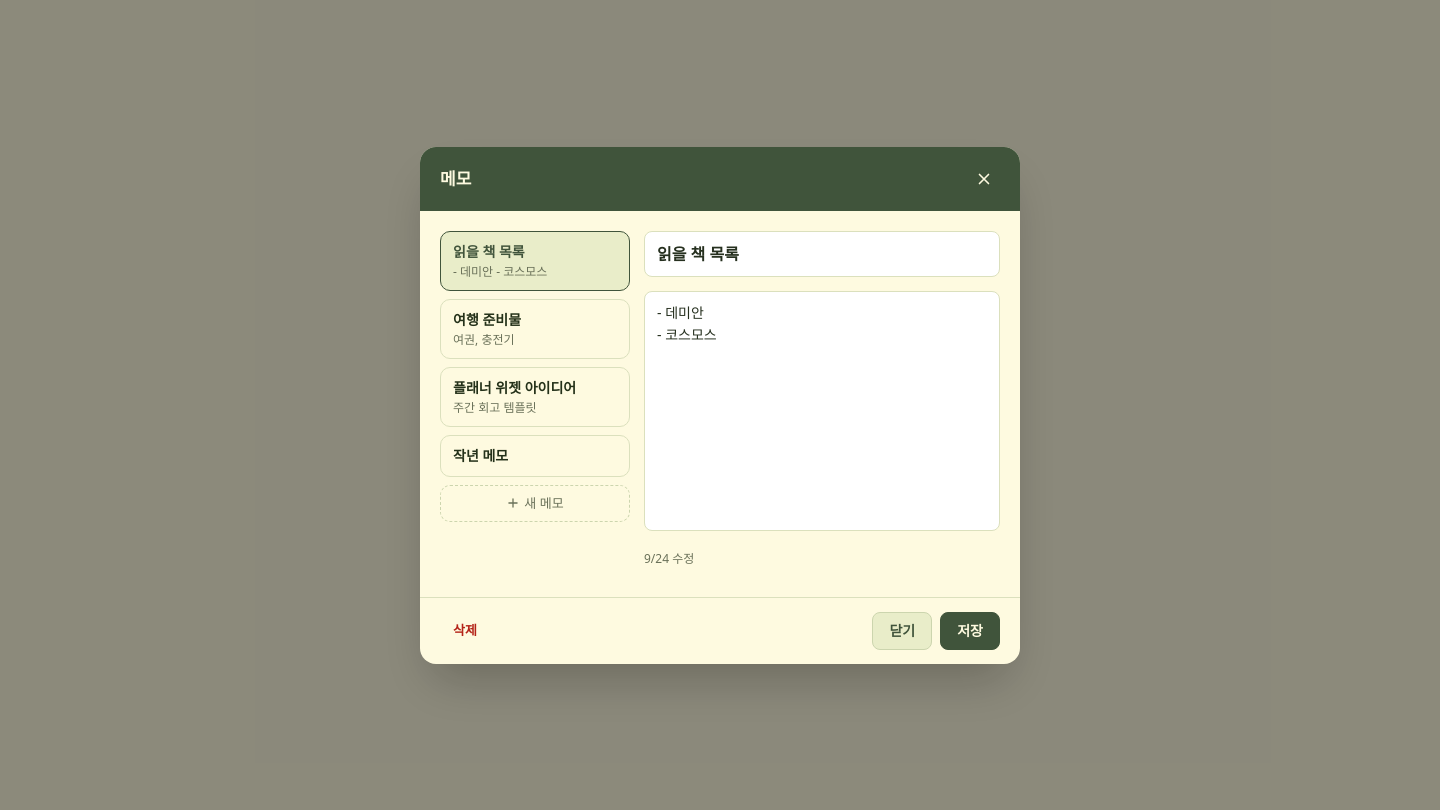
Scenario: 메모 창 OV-06 (US-25) › 지운 뒤에는 남은 맨 위 메모를 연다 (D-057)
Check: the field named "메모 제목" holds "읽을 책 목록", box [644, 230, 1000, 276]
Step 1. Click the button "삭제" → (465, 631), box [440, 614, 490, 647]
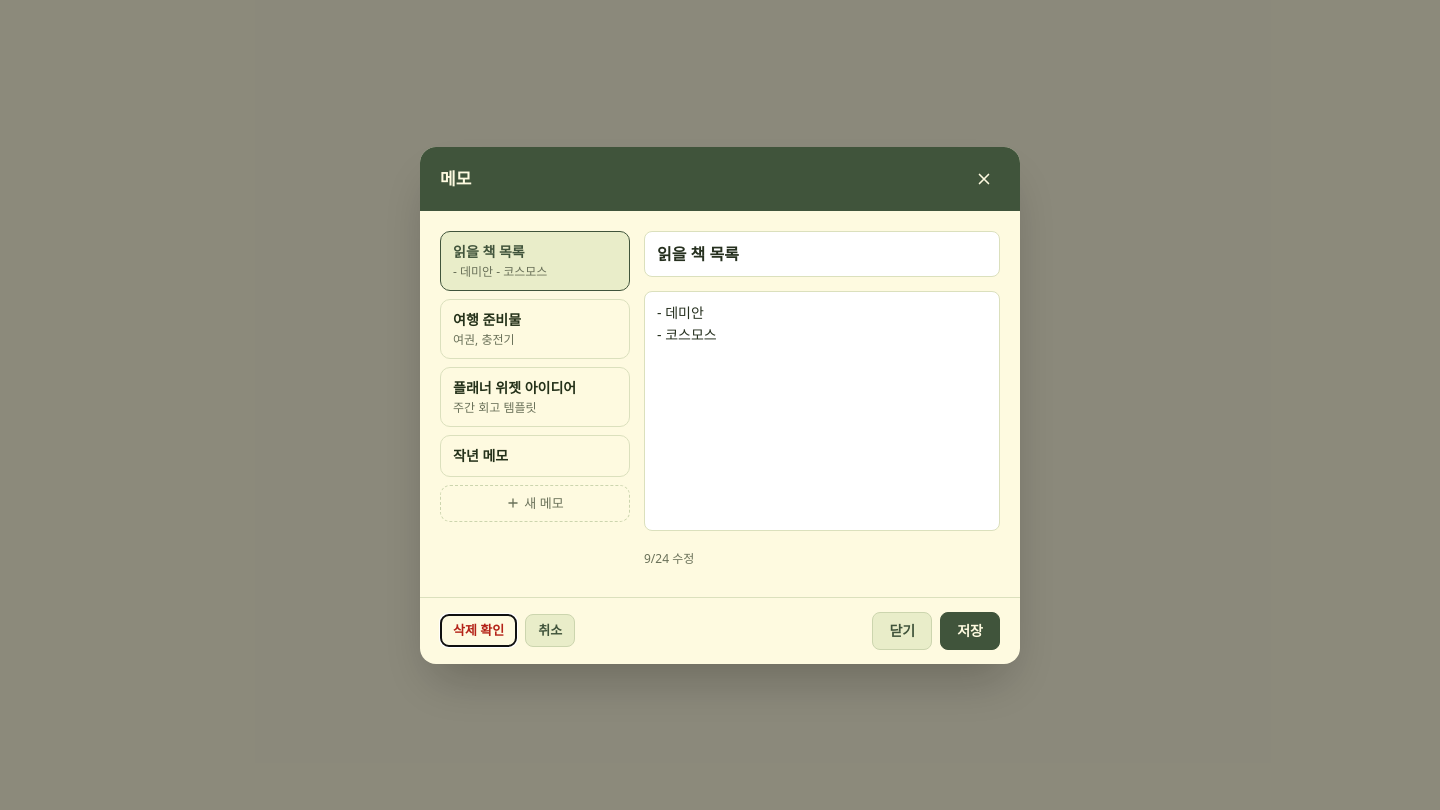
Step 2. Click the button "삭제 확인" → (479, 631), box [440, 614, 517, 647]
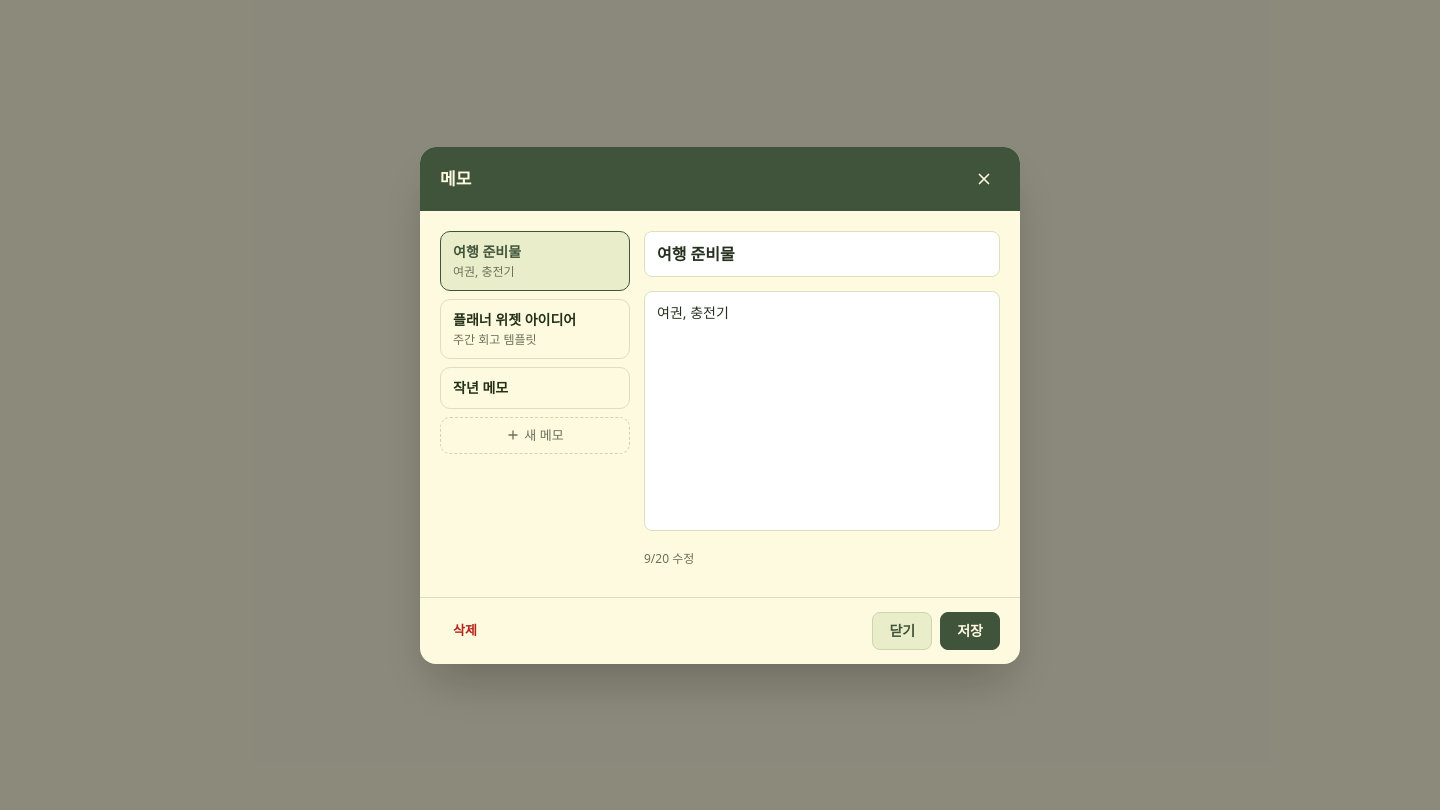
Check: the field named "메모 제목" holds "여행 준비물", box [644, 230, 1000, 276]
